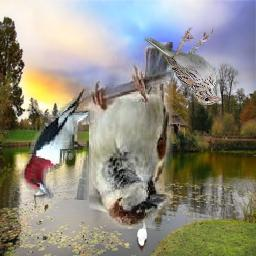Sparrow: (89, 43, 173, 230), (144, 27, 222, 106)
Woodpecker: (18, 86, 96, 201)
